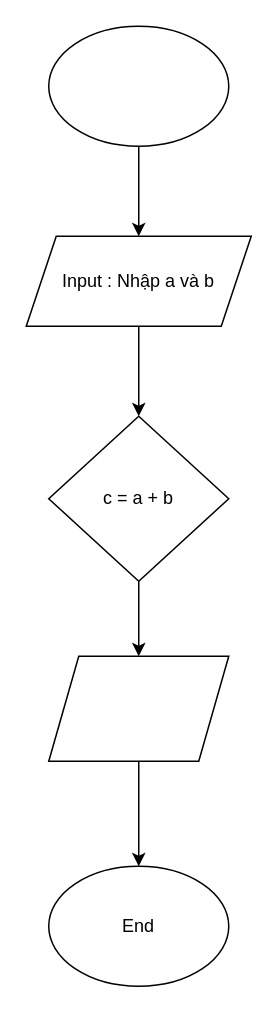
This 278x1013 diagram has some shape labels left out. Here are the shapes that lost their labels. From the top down, the centre of each, then its label:
the point at 138,85: Start
the point at 138,708: Xuất c
